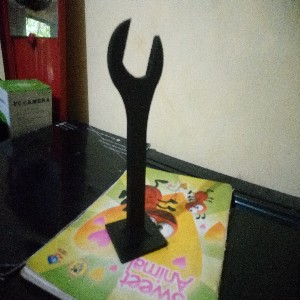spanner: (105, 18, 168, 265)
